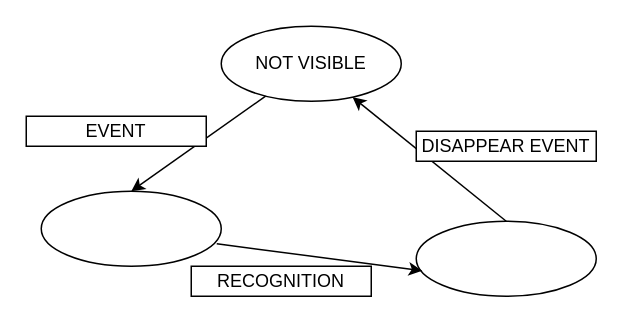
Image size: 623x323. Some labels were removed from this diagram. Each missing label, with the box of its shape:
ALARM: (40, 190, 221, 266)
INDICACION: (415, 220, 596, 296)
